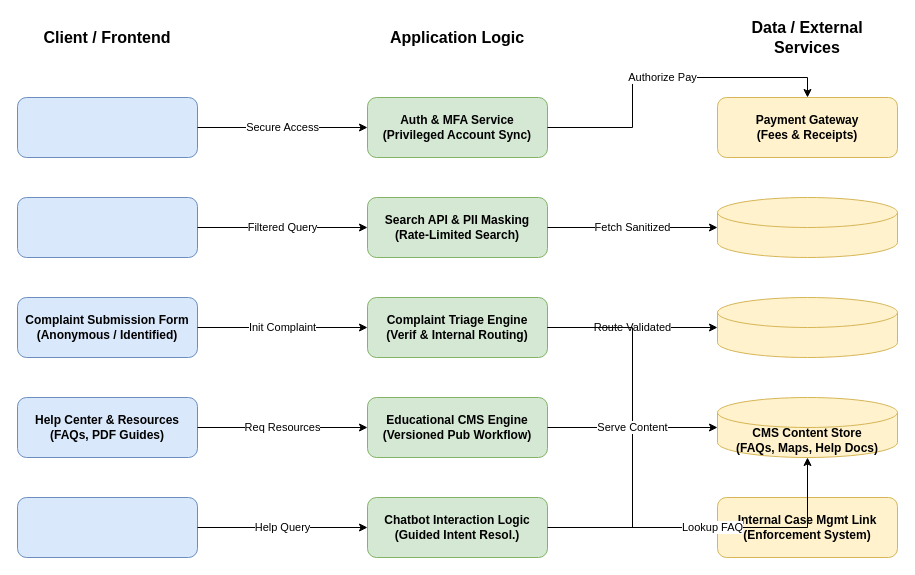
Some shapes in this 915 by 575 pixel diagram are drawn without their labels. The shapes that lost their labels are listed below. From the top down, each one's centre as x and y in pixels, then its label:
At (x=107, y=127): "Owner/Host Portal (Apps, MFA, Status)".
At (x=107, y=227): "Public Registry Search (Privacy-Filtered)".
At (x=807, y=227): "Sanitized Registry DB (Compliant TVR List)".
At (x=807, y=327): "Complaints Repository (Verified/Unverified)".
At (x=107, y=527): "Chatbot / Guided Help (Pre-Triage Q&A)".
